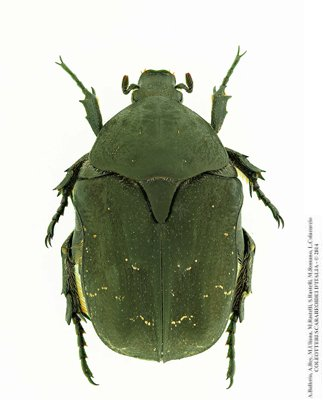Protaetia_morio_morio: (39, 33, 289, 389)
